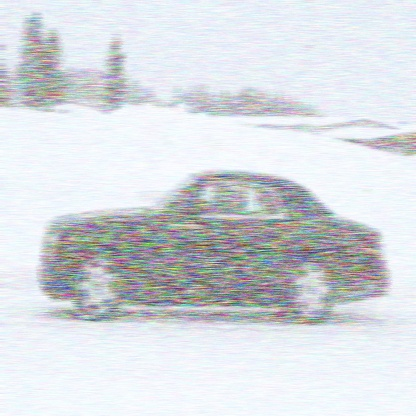Vehicle: (40, 168, 388, 324)
